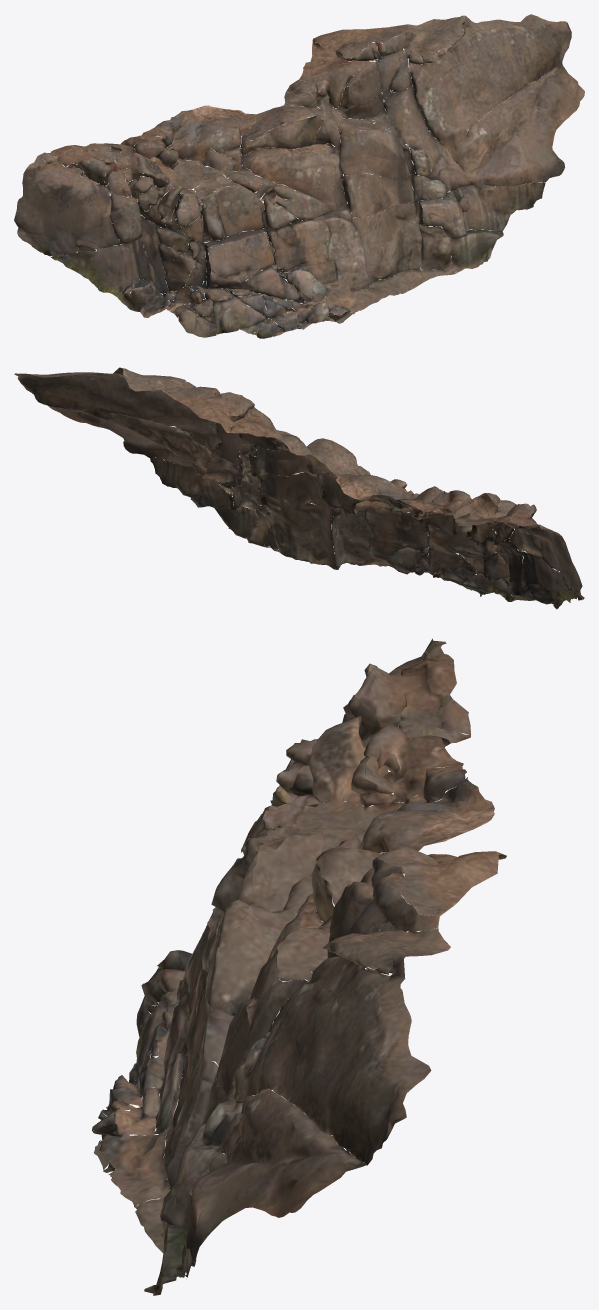
Rendered from namaqualand_cliff_02.glb.
3 renders of one model, top to bottom at view 1: azimuth 30°, elevation 25°; view 2: azimuth 150°, elevation 25°; view 3: azimuth 270°, elevation 25°, orthographic. The views are drawn at different scales.
Parts seen in each view (by area): view 1: drone_rock_02_LOD0; view 2: drone_rock_02_LOD0; view 3: drone_rock_02_LOD0.
Part boxes in pixels (box(x1,y1,x2,y2)): drone_rock_02_LOD0: box(14, 14, 584, 338); drone_rock_02_LOD0: box(14, 367, 584, 609); drone_rock_02_LOD0: box(92, 638, 506, 1295).
Bounding box in the file's own units: 20.21 × 7.2 × 6.61.
1 material, 1 textured.
